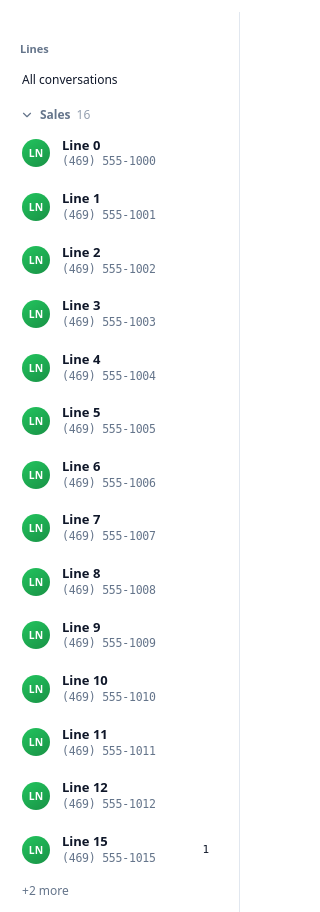
Test case: InboxColumn: department folds (Phase 1b) › puts lines past the limit behind '+N more', keeping unread ones visible
This screenshot has width=320, height=912.
(page scrolled)
Expected: the button "LN Line 15 (469) 555-1015 1" is shown, [12,824,227,875]
Expected: the button "Line 14" is not shown
Click the button "+2 more" at (120, 891), box [12,878,227,904]
(page scrolled)
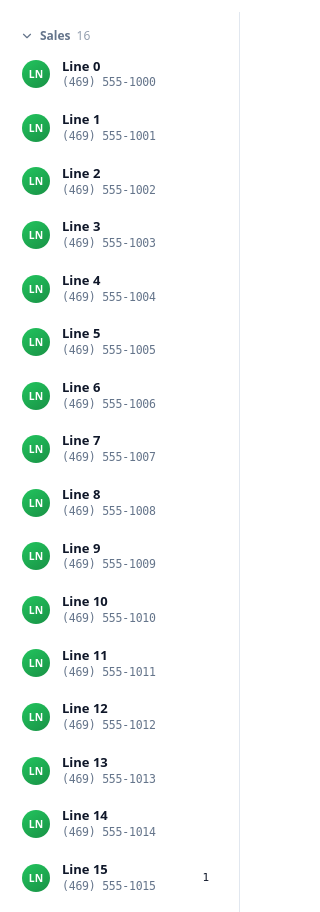
Result: the button "LN Line 14 (469) 555-1014" is shown at [12,798,227,850]
